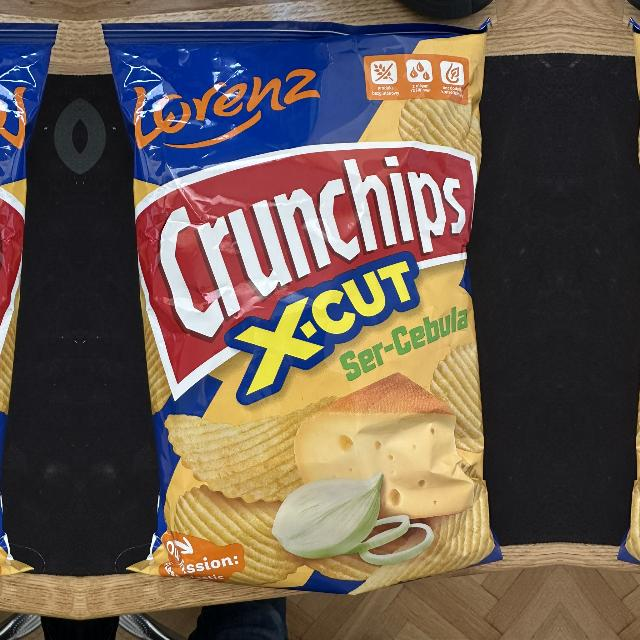crunchips: (136, 142, 478, 402)
